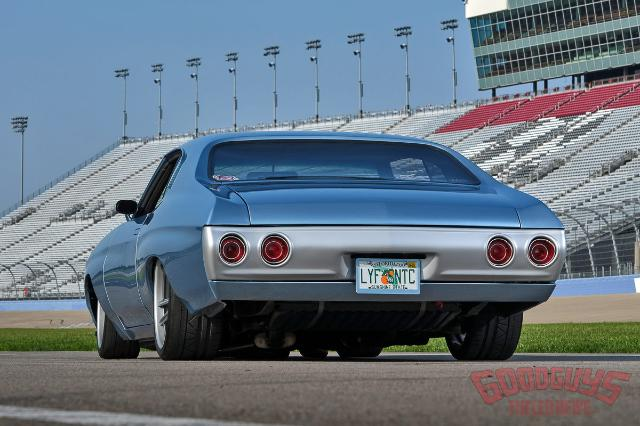chevelle-1972: (84, 132, 566, 361)
